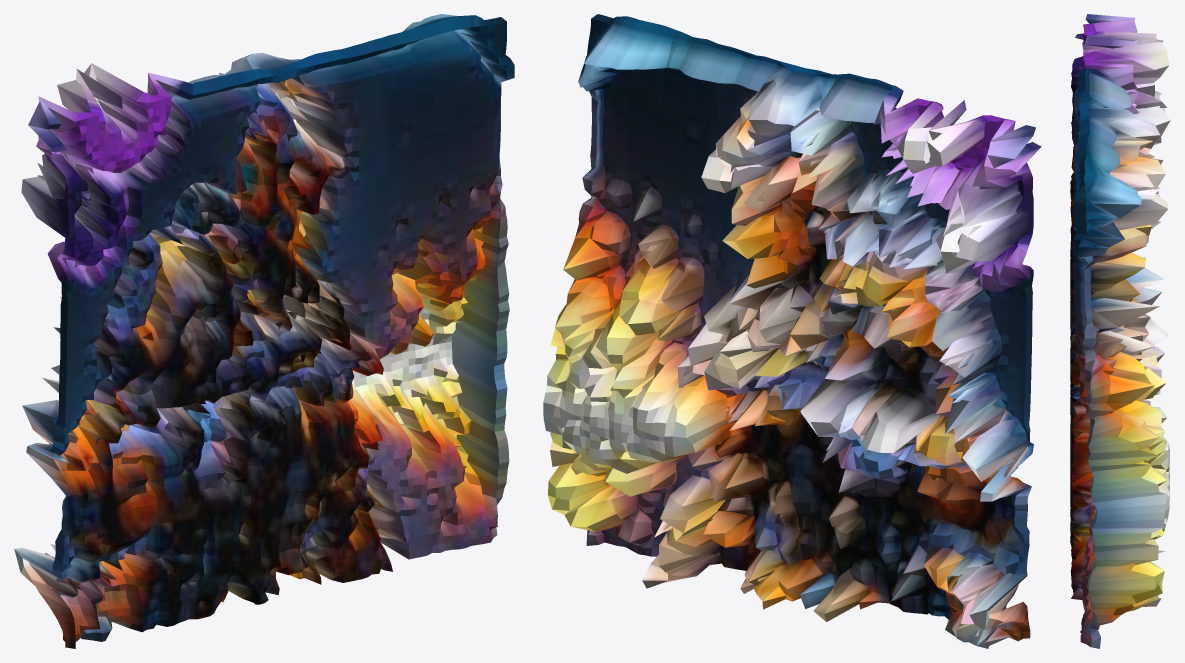
File: pyromech-relief.glb
3 renders of one model, left to right at view 1: azimuth 30°, elevation 25°; view 2: azimuth 150°, elevation 25°; view 3: azimuth 270°, elevation 25°, orthographic. The views are drawn at different scales.
Parts seen in each view (by area): view 1: RELIEF_REFERENCE_pyromech; view 2: RELIEF_REFERENCE_pyromech; view 3: RELIEF_REFERENCE_pyromech.
Boxes of the visible parts, x1,y1,x2,y2 form: RELIEF_REFERENCE_pyromech: (14, 14, 514, 648); RELIEF_REFERENCE_pyromech: (543, 14, 1041, 648); RELIEF_REFERENCE_pyromech: (1070, 14, 1170, 648).
Size of the model in its own units: 3.15 by 3.54 by 0.6942.
Materials: 1 (1 with a texture image).
